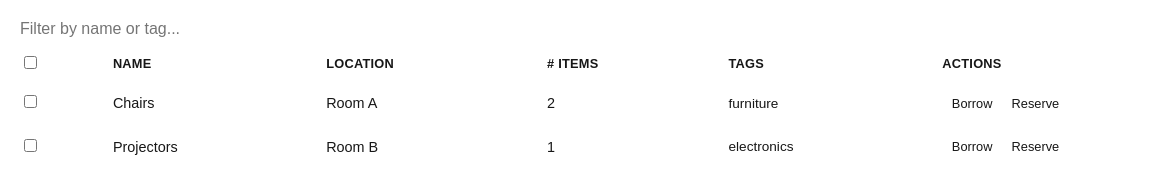
Test: header select-all checkbox › becomes fully checked when every row is checked
Click the checkbox named "Add Chairs to cart" at (30, 102), box [24,95,37,108]
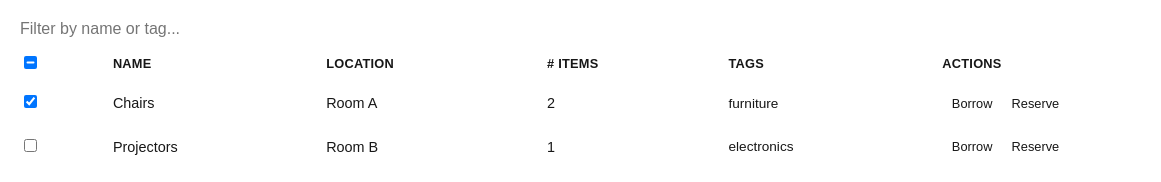
Click the checkbox named "Add Projectors to cart" at (30, 145), box [24,139,37,152]
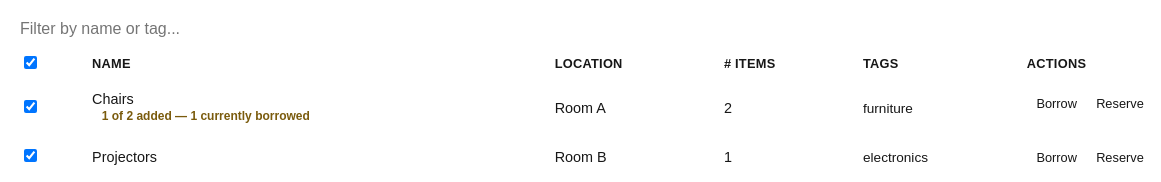
Expected: the checkbox named "Select all" is checked, [24,56,37,69]
